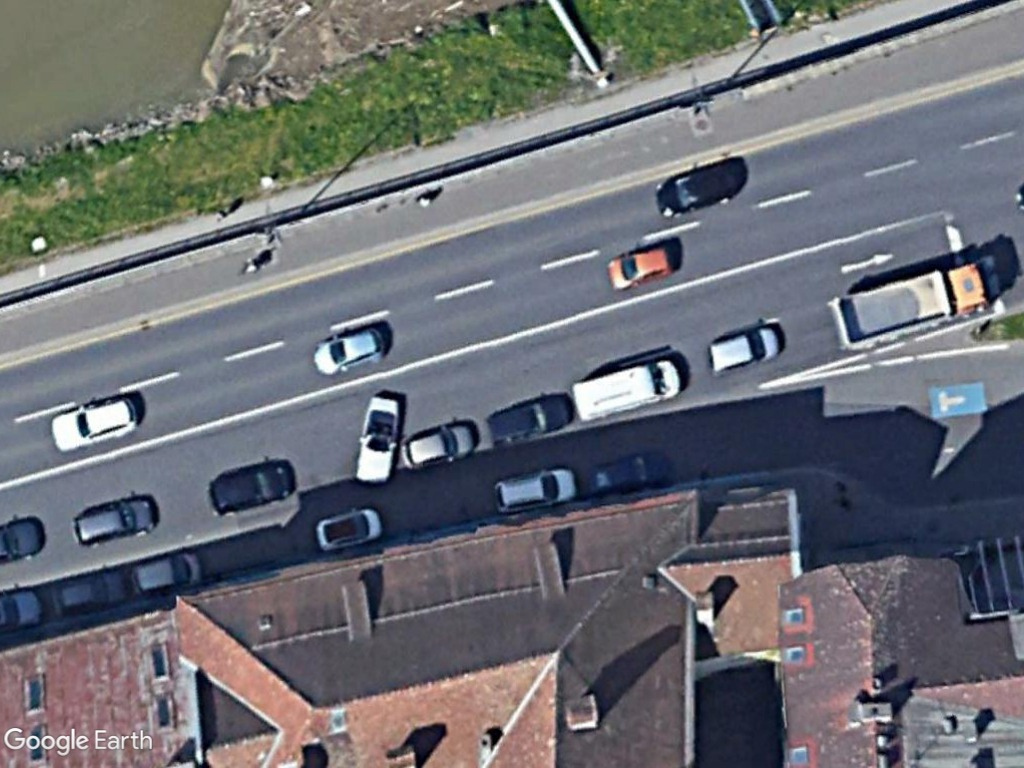car: (204, 454, 299, 519), (45, 391, 141, 455), (652, 157, 745, 221), (483, 388, 575, 449), (579, 443, 674, 502), (68, 490, 159, 551), (306, 316, 391, 379), (41, 566, 132, 624), (701, 318, 791, 376), (398, 413, 482, 471), (125, 544, 210, 601), (486, 462, 579, 512), (603, 237, 680, 294), (312, 500, 388, 556)
truck: (828, 255, 999, 354)
van: (569, 351, 688, 426)
